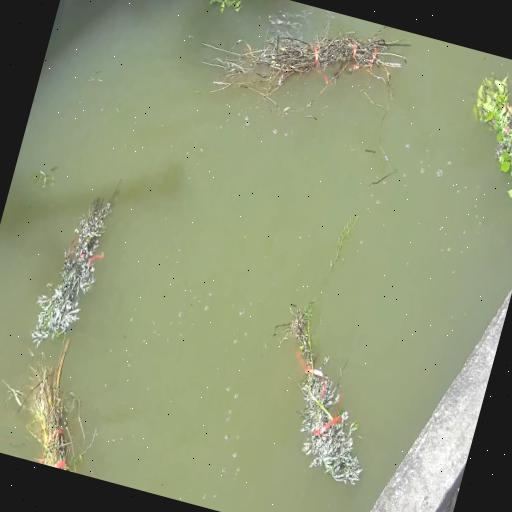twig: (276, 304, 361, 484), (211, 30, 408, 92), (31, 197, 111, 345), (31, 339, 70, 471), (475, 77, 512, 181), (209, 0, 242, 11)
